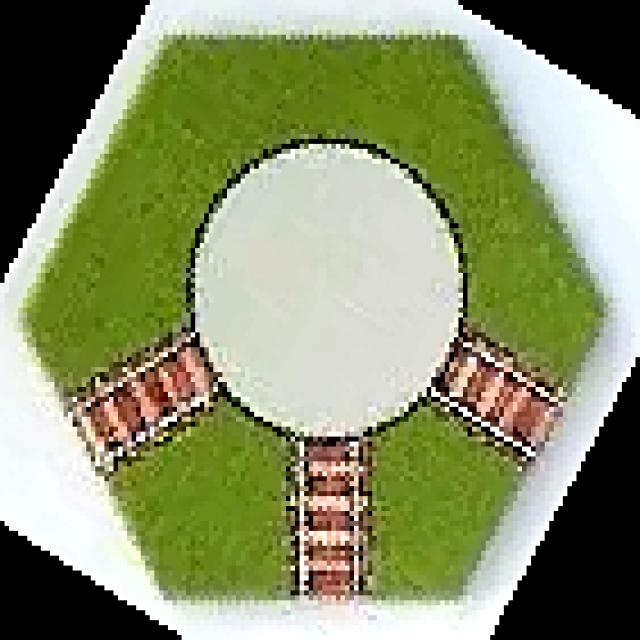12_1: (25, 30, 602, 606)
